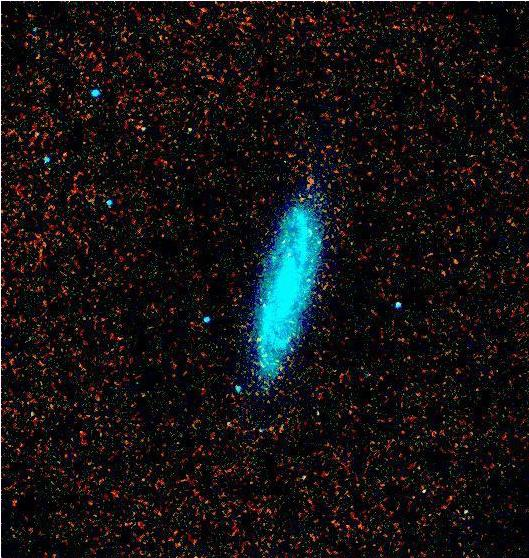star: (284, 179, 314, 209)
